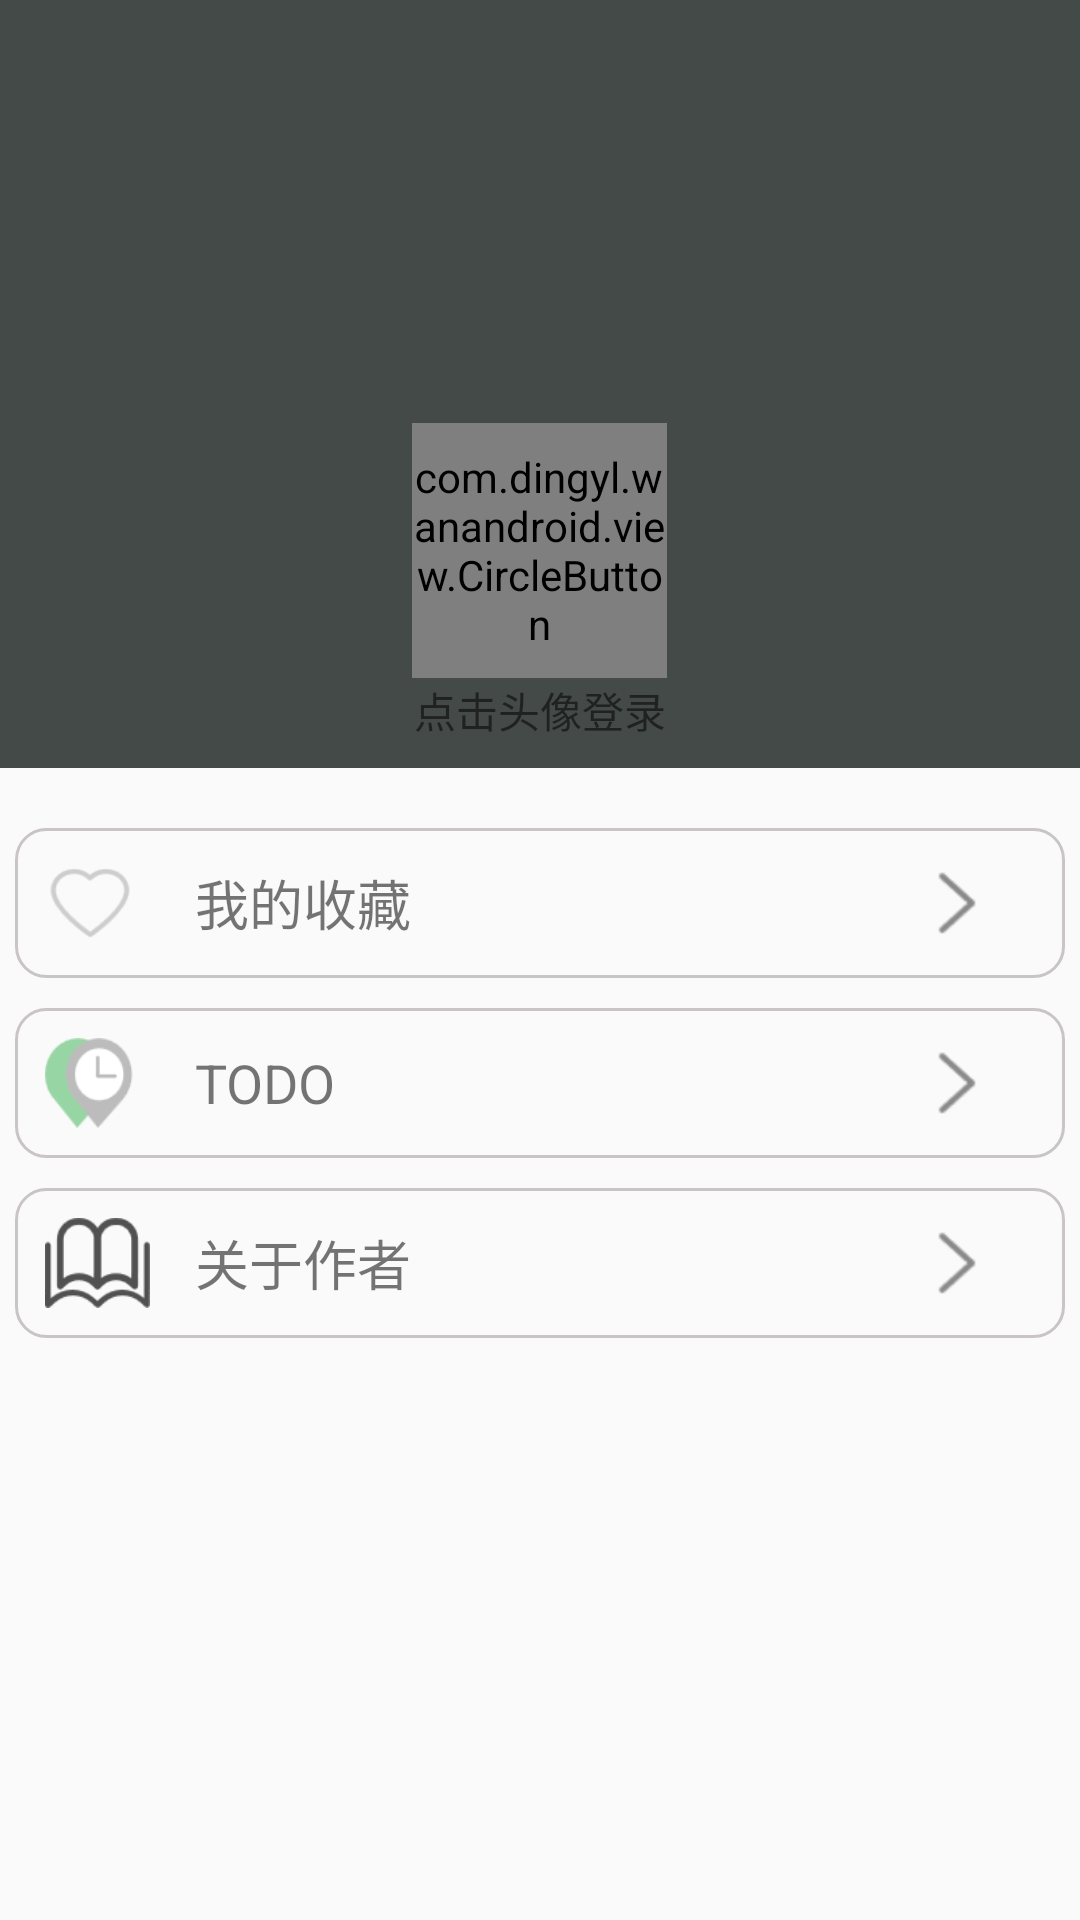

Where to tap for icons on this 1080w x 1920h app screen, as [x,y]:
enter: [957,903], [957,1083], [957,1263]
not love: [90,903]
